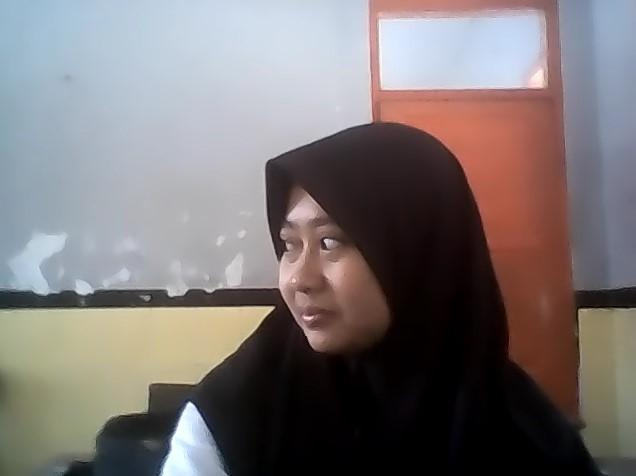cheating: (152, 103, 600, 476)
